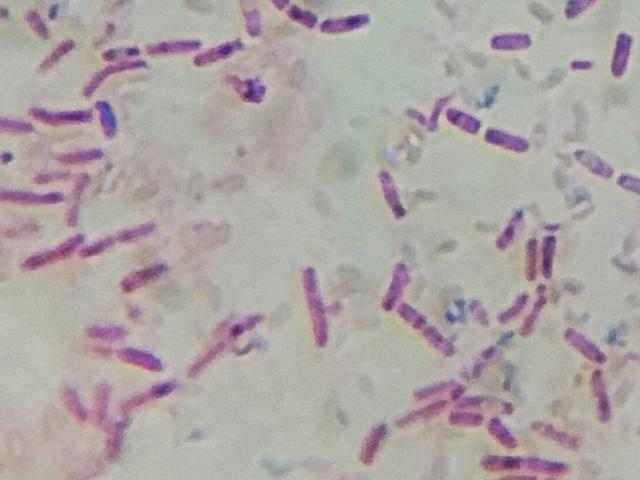E. coli: (299, 262, 341, 345), (196, 316, 261, 369), (88, 223, 171, 258), (480, 450, 573, 478), (378, 162, 417, 225), (29, 233, 90, 273), (116, 259, 174, 295), (93, 343, 167, 371), (93, 62, 148, 98), (485, 125, 542, 158), (352, 416, 389, 466), (442, 102, 489, 139), (0, 183, 58, 212), (73, 172, 103, 227), (39, 36, 79, 75), (560, 327, 607, 360), (224, 70, 270, 103), (532, 419, 584, 447), (518, 289, 551, 333), (379, 262, 411, 306), (322, 13, 376, 39), (613, 29, 638, 85), (591, 366, 614, 426), (538, 227, 561, 286), (573, 147, 609, 184), (99, 97, 128, 142), (148, 32, 198, 58), (486, 26, 529, 56), (35, 103, 84, 129), (59, 382, 86, 427), (552, 0, 597, 27), (401, 400, 446, 427), (131, 385, 174, 413), (428, 330, 460, 366), (498, 285, 528, 323), (462, 395, 516, 415), (26, 6, 55, 42), (395, 302, 426, 335), (490, 417, 521, 450), (198, 42, 244, 64), (499, 210, 520, 253), (62, 147, 112, 165), (285, 5, 317, 33), (103, 37, 140, 61), (88, 375, 108, 419), (420, 377, 461, 398), (240, 11, 269, 40), (39, 159, 73, 183), (618, 165, 640, 202), (83, 317, 126, 334), (111, 425, 128, 463), (526, 235, 542, 274), (1, 115, 28, 137), (568, 56, 599, 75), (450, 413, 482, 429), (465, 297, 481, 323), (269, 0, 288, 12)
